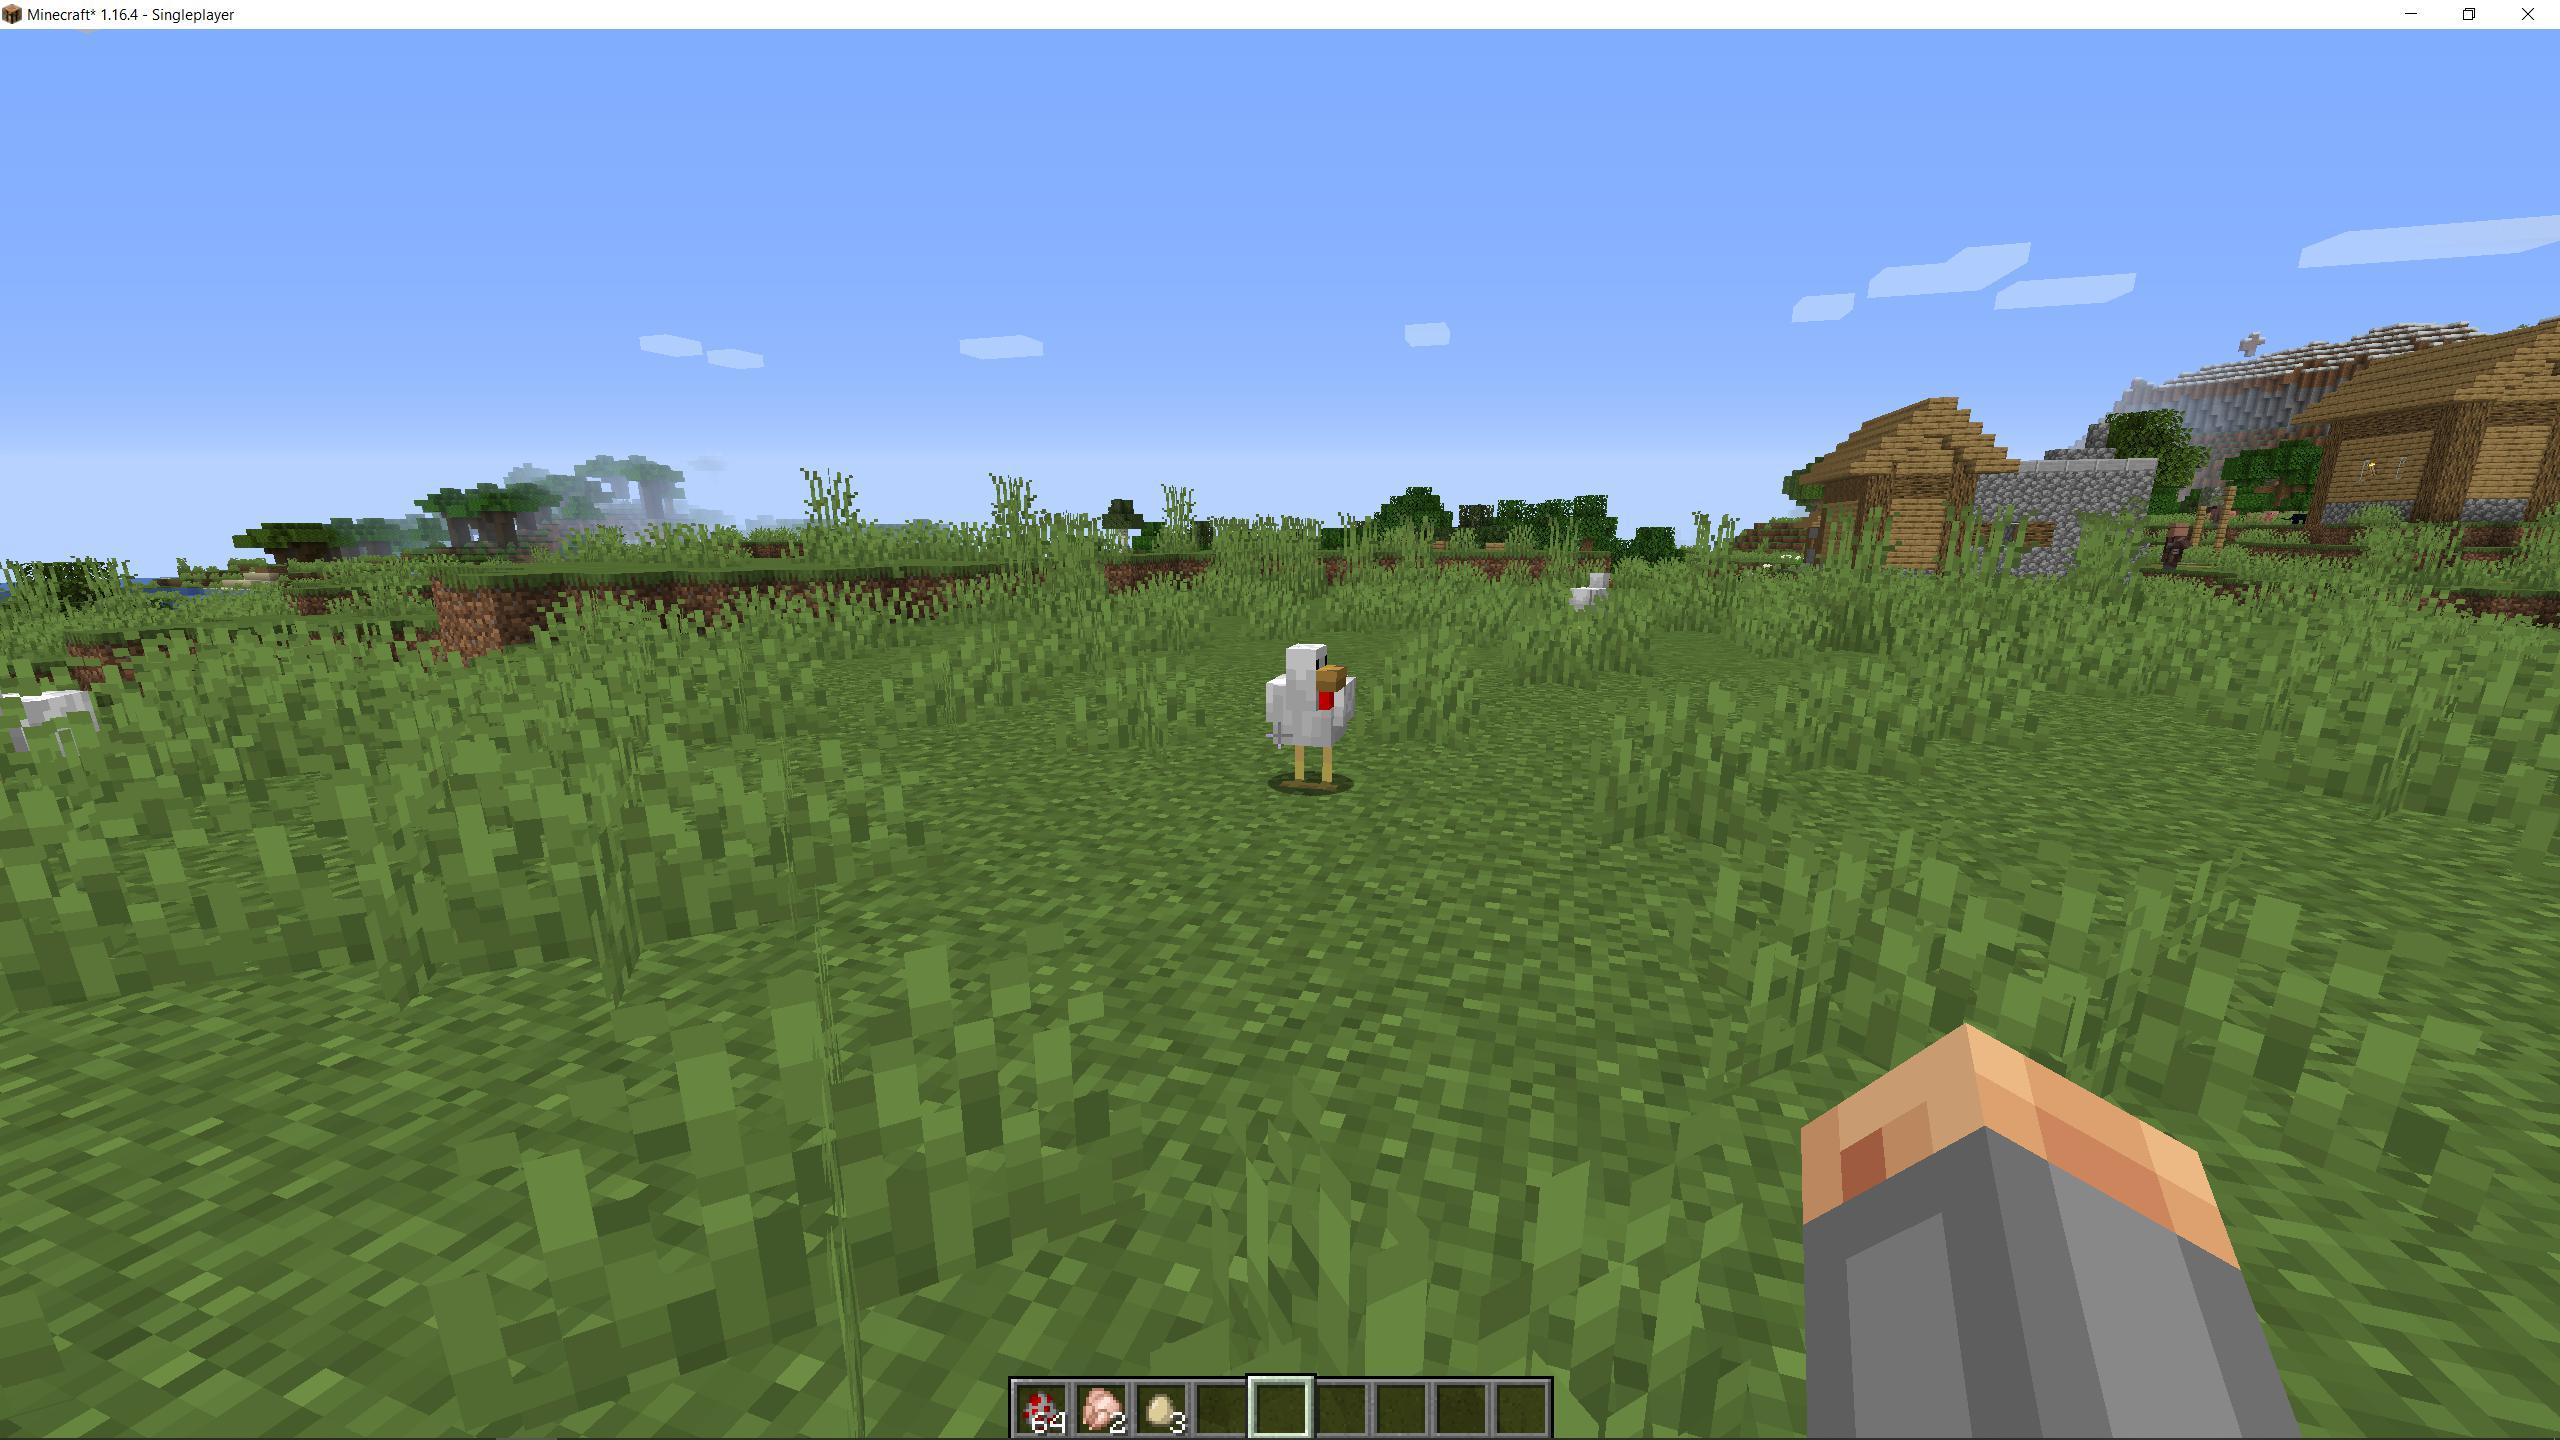chicken: (1247, 626, 1385, 809), (1568, 563, 1626, 642)
